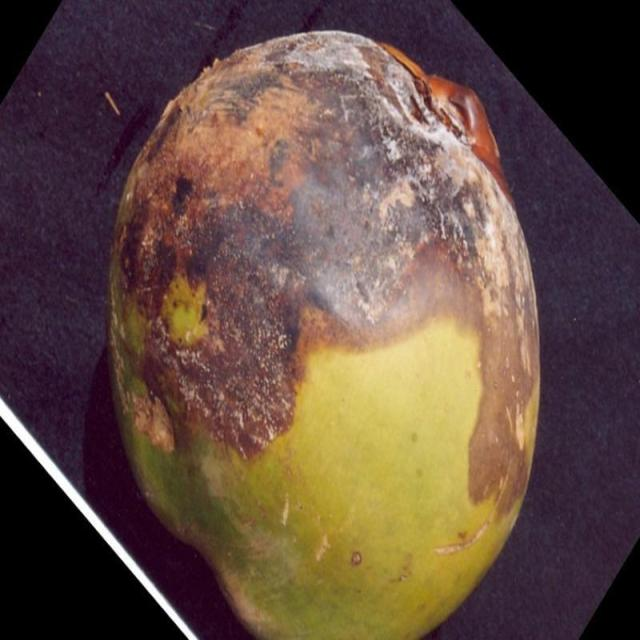damaged: (109, 32, 539, 639)
